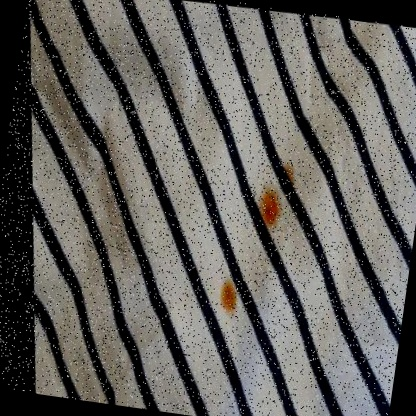kimchi: (254, 184, 289, 228), (215, 279, 239, 318), (282, 161, 302, 179)
